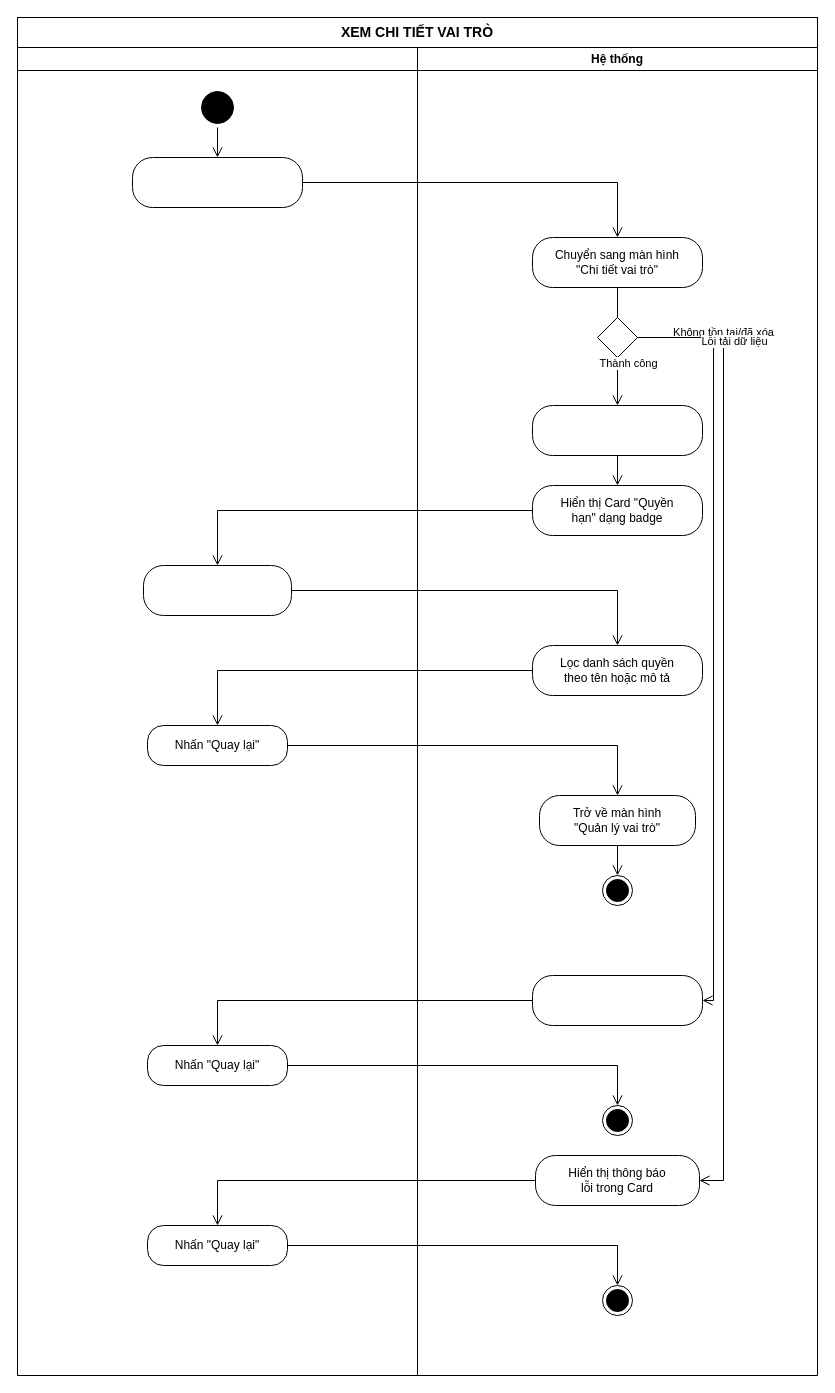
Some shapes in this 835 by 1393 pixel diagram are drawn without their labels. The shapes that lost their labels are listed below. From the top down, each one's box as (x1, y1, x2, y2) in pixels, then its label:
(132, 156, 302, 208): Nhấn "Chi tiết" trong menu hành động (⋯)
(532, 404, 702, 456): Hiển thị Card "Thông tin vai trò" (ID, Tên, Slug,...)
(142, 564, 292, 616): Nhập từ khoá vào ô "Tìm quyền..."
(16, 46, 418, 1376): Quản trị viên
(532, 974, 702, 1026): Hiển thị Card "Vai trò này không tồn tại hoặc đã bị xóa."
